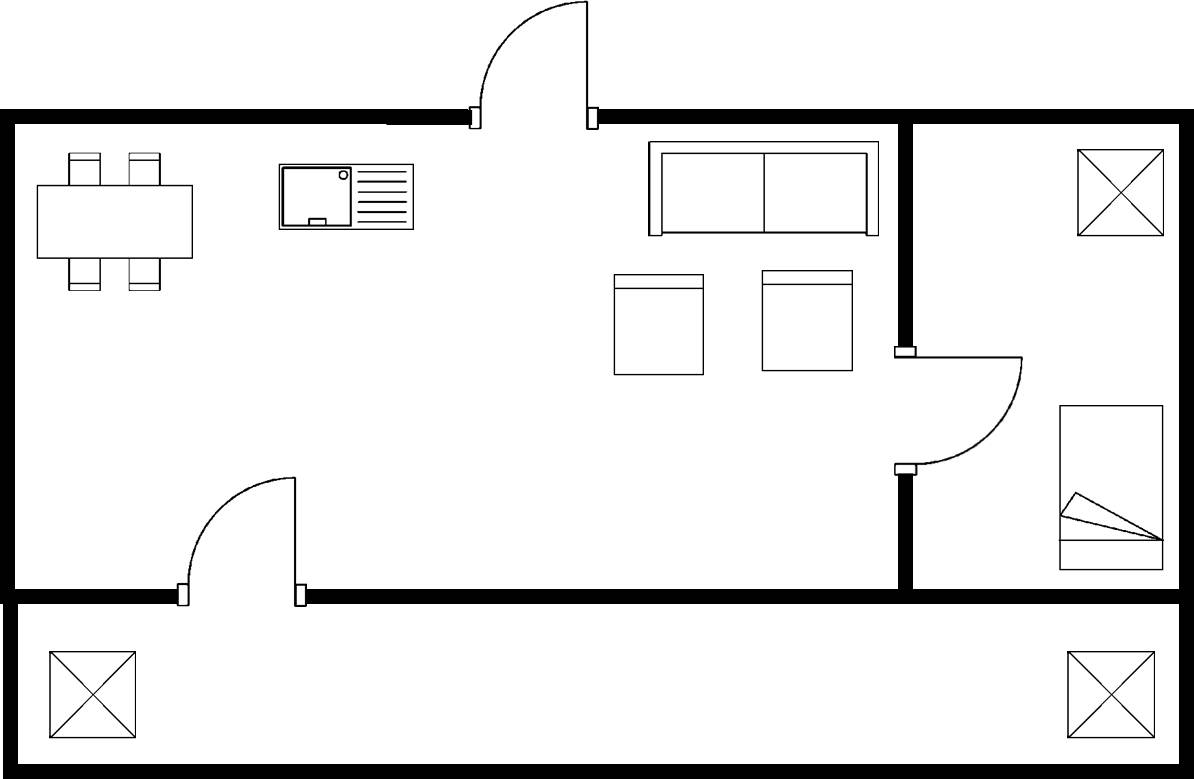bed: (1047, 397, 1169, 578)
coffee_table: (42, 643, 143, 744), (1060, 643, 1159, 745), (1069, 144, 1168, 244)
dining_table: (31, 144, 201, 299)
large_sofa: (641, 133, 886, 246)
sink: (273, 155, 425, 241)
small_sofa: (608, 269, 715, 382), (756, 265, 857, 379)
